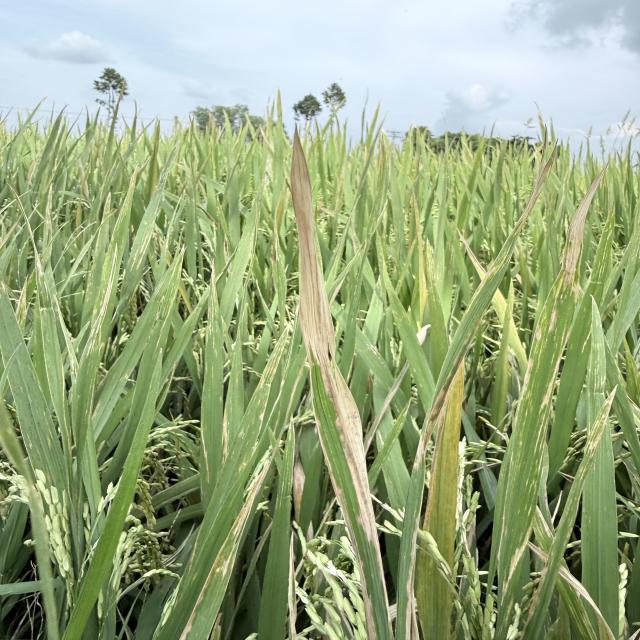Chay bia la: (290, 125, 385, 582)
